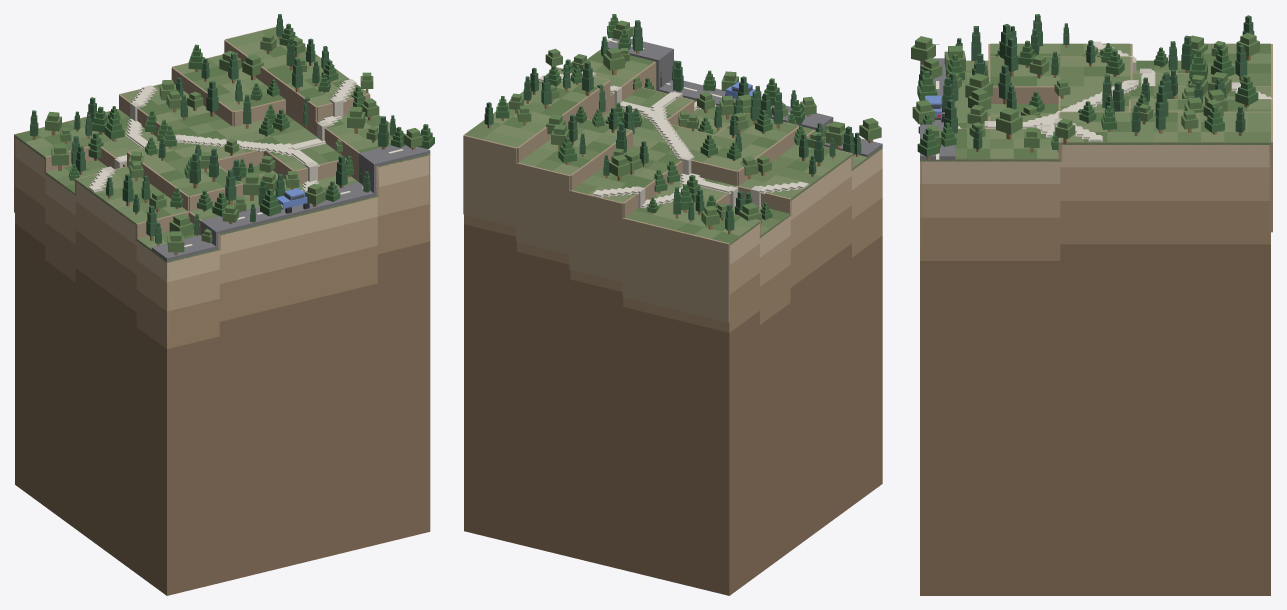
Rendered from block_2_engineered_10.glb.
3 views of the same model, side by side, from view 1: azimuth 30°, elevation 25°; view 2: azimuth 150°, elevation 25°; view 3: azimuth 270°, elevation 25° (orthographic). The views are drawn at different scales.
Visible parts, largest first — view 1: Patch_UpperLeft_b06_ES, Ghats_UpperLeft_b06_ES, Roads_UpperLeft_b06_ES; view 2: Patch_UpperLeft_b06_ES, Ghats_UpperLeft_b06_ES, Roads_UpperLeft_b06_ES; view 3: Patch_UpperLeft_b06_ES, Ghats_UpperLeft_b06_ES, Roads_UpperLeft_b06_ES, ULG_T192_ES, ULG_T108_ES, ULG_T175_ES.
Part boxes in pixels (x1,y1,x2,y2): Patch_UpperLeft_b06_ES: [15, 137, 430, 595]; Ghats_UpperLeft_b06_ES: [14, 27, 430, 338]; Roads_UpperLeft_b06_ES: [151, 145, 430, 261]; Patch_UpperLeft_b06_ES: [464, 149, 882, 595]; Ghats_UpperLeft_b06_ES: [463, 49, 882, 322]; Roads_UpperLeft_b06_ES: [607, 38, 882, 157]; Patch_UpperLeft_b06_ES: [920, 144, 1270, 595]; Ghats_UpperLeft_b06_ES: [920, 41, 1272, 248]; Roads_UpperLeft_b06_ES: [920, 58, 955, 160]; ULG_T192_ES: [996, 107, 1022, 139]; ULG_T108_ES: [911, 36, 935, 64]; ULG_T175_ES: [1235, 75, 1258, 107].
Bounding box in the file's own units: 9.77 × 14.67 × 9.79.
